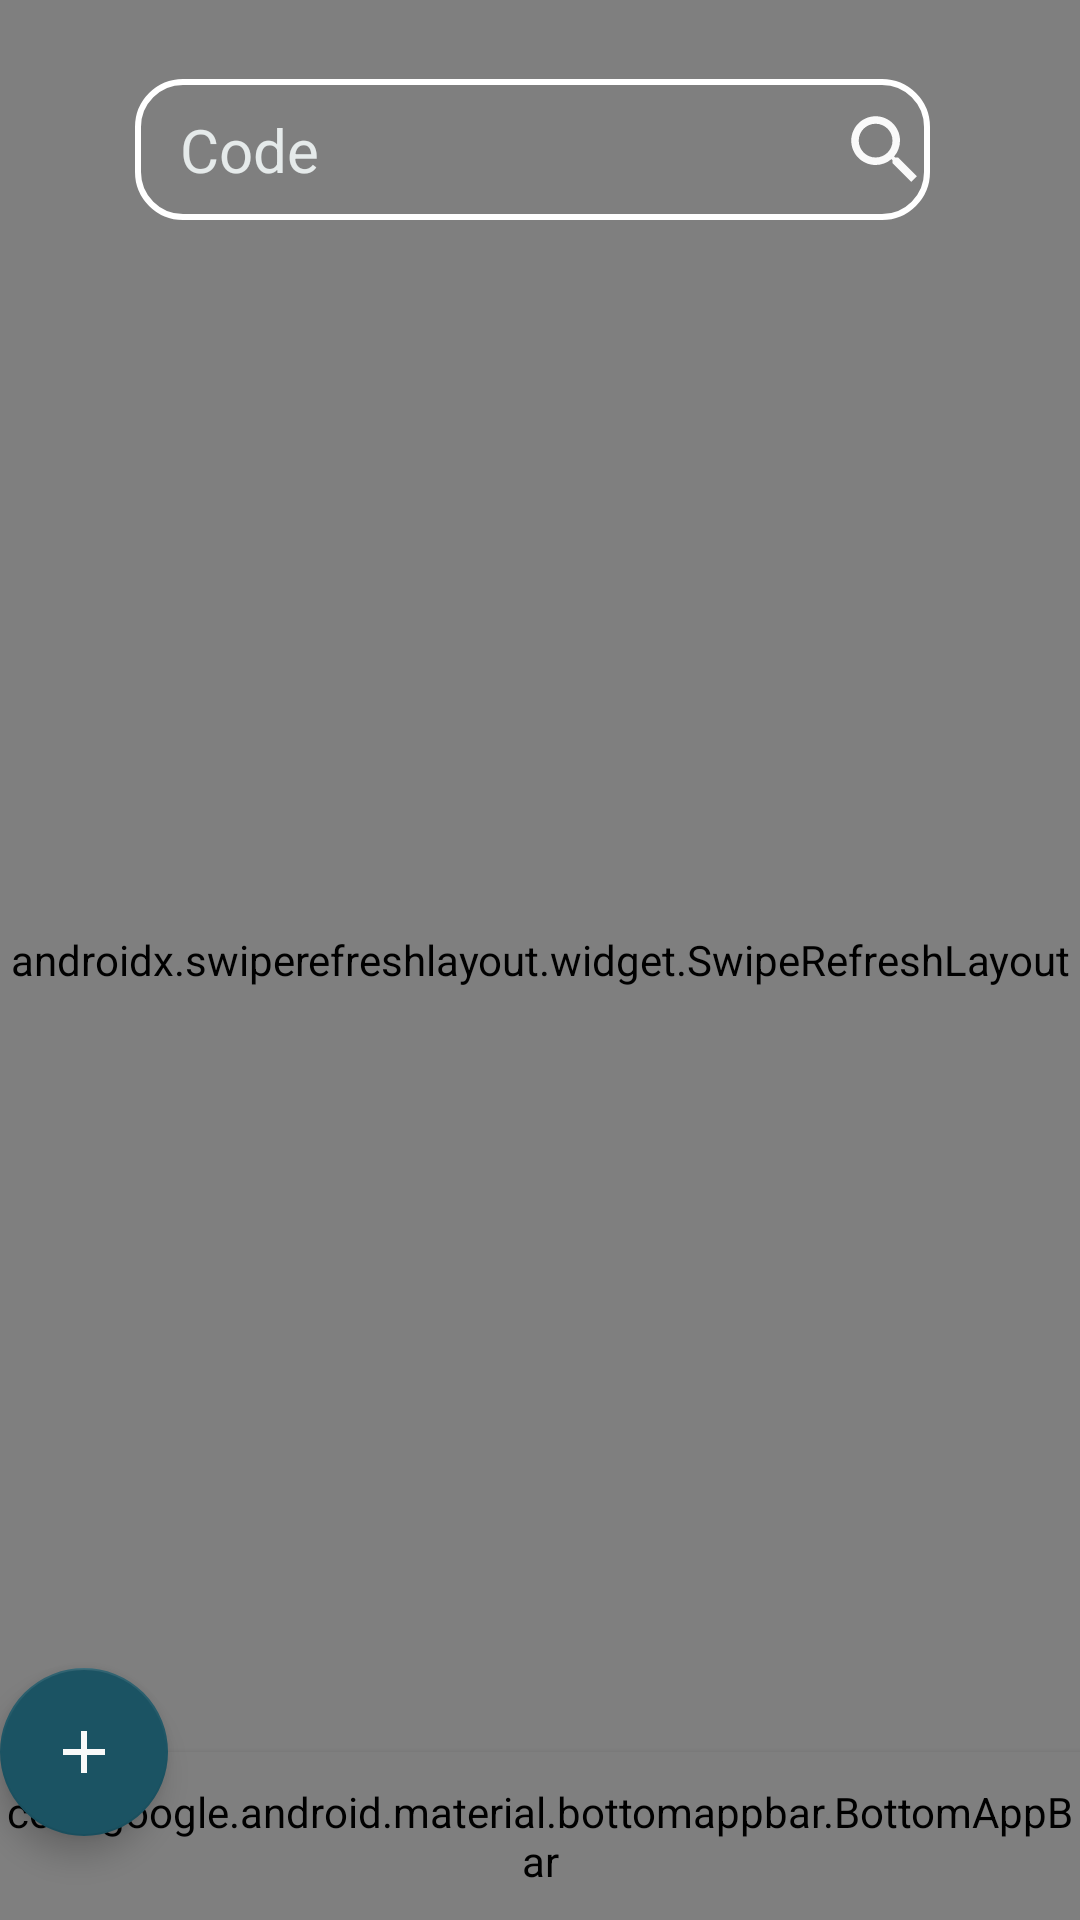

Screen size 1080x1920. Icon name, then its center in pixels as (x=x, y=y):
add: (x=84, y=1752)
search: (x=884, y=149)
